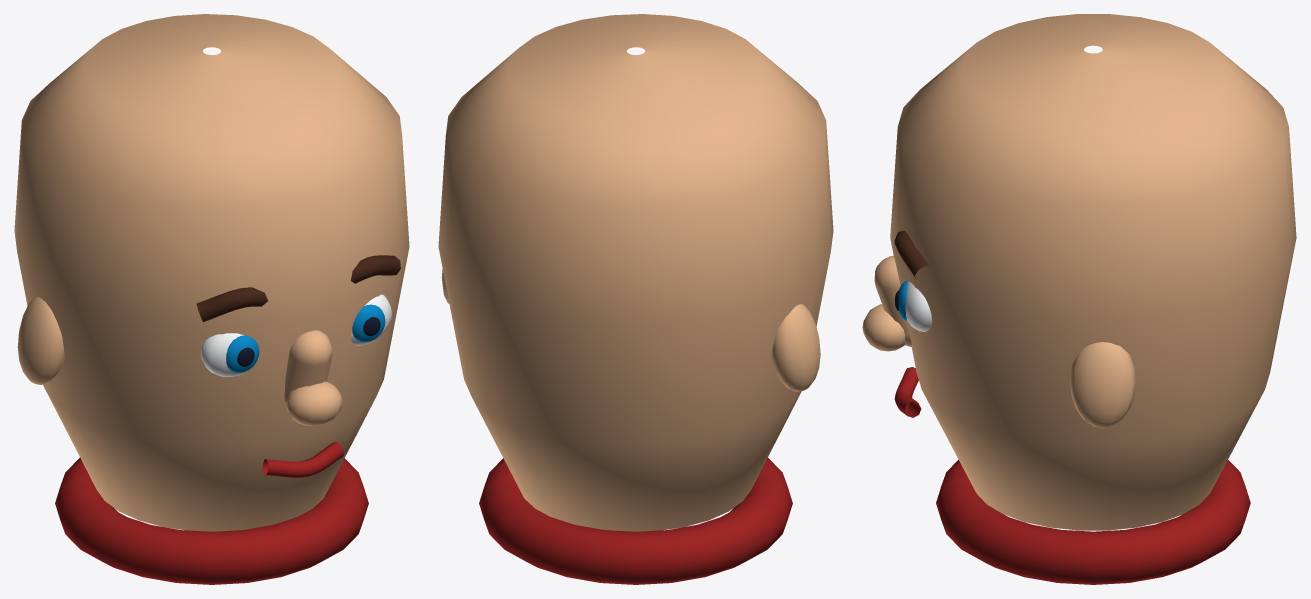
The model's file is chiseled.glb.
The picture shows the model from 3 angles, left to right: view 1: azimuth 30°, elevation 25°; view 2: azimuth 150°, elevation 25°; view 3: azimuth 270°, elevation 25°; orthographic projection.
Visible parts, largest first — view 1: cranium, collar_accent, ear_r, nose_bridge, nose_tip, mouth_ridge, brow_-1, eye_sclera_-1, brow_1, eye_iris_-1, eye_iris_1, eye_sclera_1; view 2: cranium, collar_accent, ear_r; view 3: cranium, collar_accent, ear_l, nose_tip, nose_bridge, eye_sclera_1, mouth_ridge, brow_1.
Part boxes in pixels (<box>): cranium: <box>14,14,409,531</box>; collar_accent: <box>55,457,368,584</box>; ear_r: <box>17,297,64,384</box>; nose_bridge: <box>284,330,332,403</box>; nose_tip: <box>286,381,342,426</box>; mouth_ridge: <box>262,442,344,477</box>; brow_-1: <box>196,287,267,321</box>; eye_sclera_-1: <box>201,333,258,376</box>; brow_1: <box>351,255,400,283</box>; eye_iris_-1: <box>226,335,259,372</box>; eye_iris_1: <box>352,304,385,342</box>; eye_sclera_1: <box>351,294,391,345</box>; cranium: <box>438,14,833,531</box>; collar_accent: <box>479,457,792,584</box>; ear_r: <box>771,304,820,391</box>; cranium: <box>890,14,1296,530</box>; collar_accent: <box>936,460,1250,584</box>; ear_l: <box>1070,342,1135,428</box>; nose_tip: <box>862,304,905,351</box>; nose_bridge: <box>874,255,911,346</box>; eye_sclera_1: <box>905,281,932,331</box>; mouth_ridge: <box>894,367,921,417</box>; brow_1: <box>894,230,929,279</box>.
Size of the model in its own units: 0.2219 by 0.274 by 0.2261.
